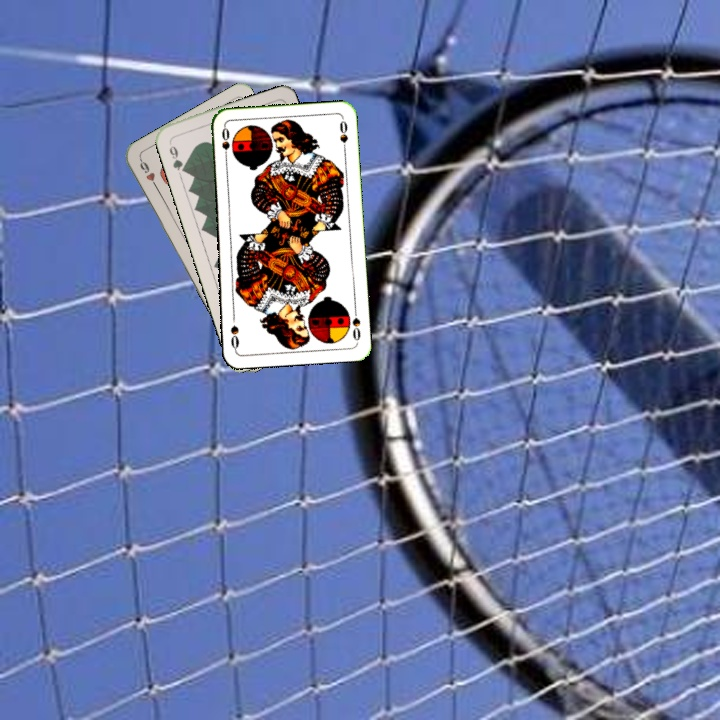G9: (165, 137, 189, 175)
H9: (136, 155, 161, 192)
SO: (217, 123, 232, 164), (348, 304, 363, 344)
